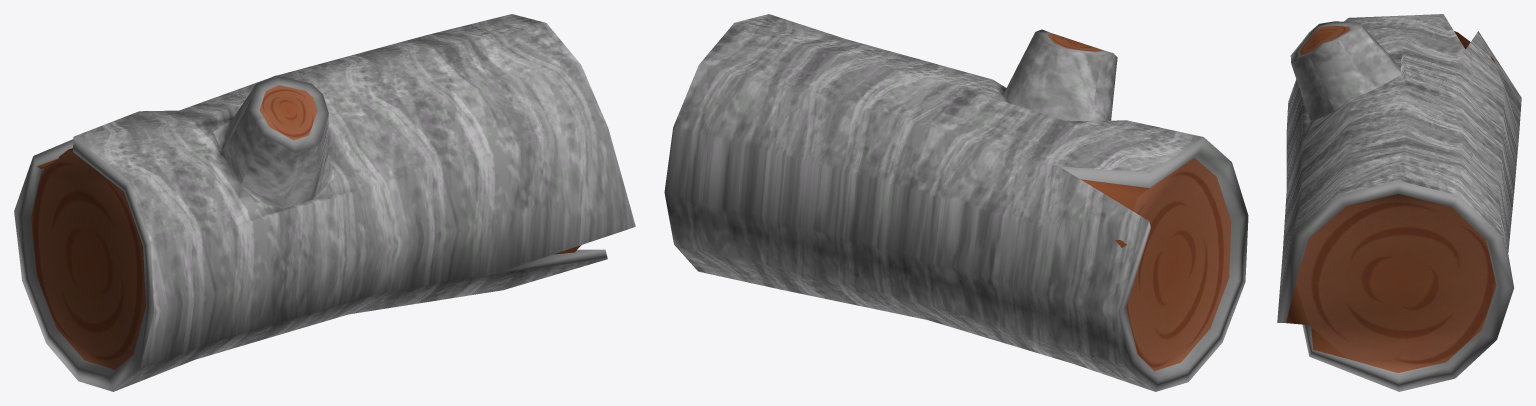
Rendered from HardWoodLog.fbx.
3 renders of one model, left to right at view 1: azimuth 30°, elevation 25°; view 2: azimuth 150°, elevation 25°; view 3: azimuth 270°, elevation 25°, orthographic. The views are drawn at different scales.
Visible parts, largest first — view 1: WoodStack; view 2: WoodStack; view 3: WoodStack.
Boxes of the visible parts, x1,y1,x2,y2 form: WoodStack: (14, 14, 635, 391); WoodStack: (664, 14, 1248, 391); WoodStack: (1277, 14, 1521, 391).
Size of the model in its own units: 1.42 by 0.7924 by 0.7233.
2 materials, 2 textured.
